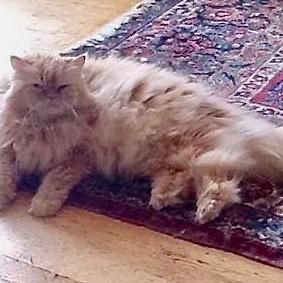persian: (8, 51, 90, 119)
